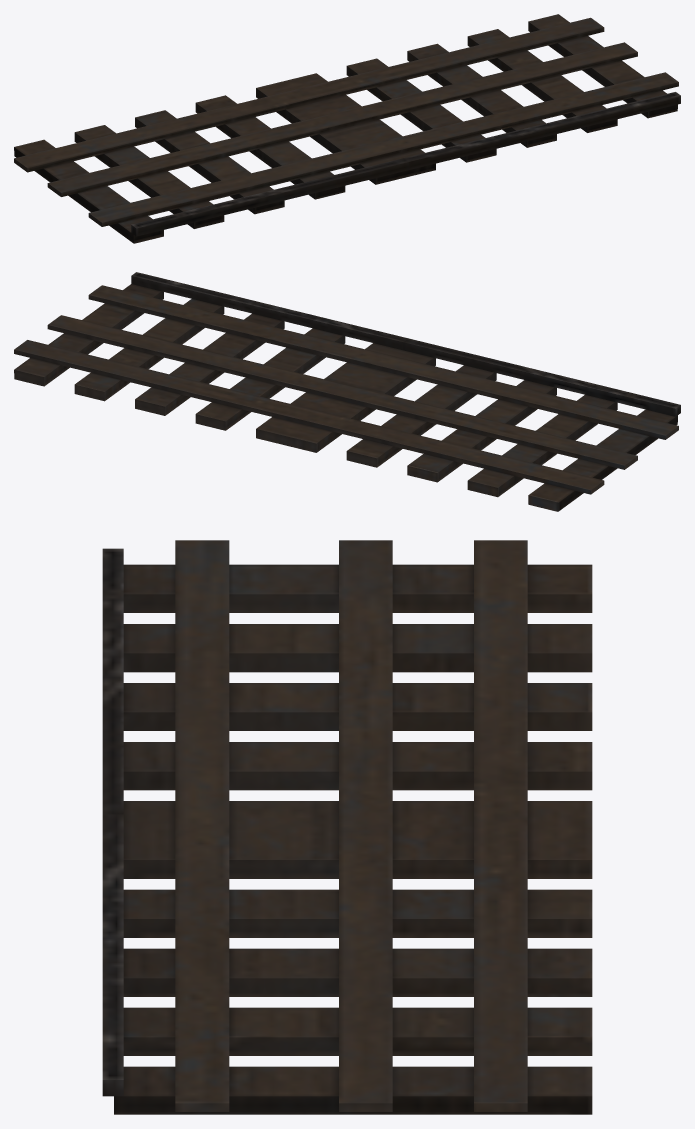
Rendered from FordF700PanelTruckRearDoor_WorldItem.fbx.
3 renders of one model, top to bottom at view 1: azimuth 30°, elevation 25°; view 2: azimuth 150°, elevation 25°; view 3: azimuth 270°, elevation 25°, orthographic. The views are drawn at different scales.
Visible parts, largest first — view 1: TrunkDoor_obj; view 2: TrunkDoor_obj; view 3: TrunkDoor_obj.
Part boxes in pixels (<box>): TrunkDoor_obj: <box>14,14,680,243</box>; TrunkDoor_obj: <box>14,272,680,511</box>; TrunkDoor_obj: <box>102,540,592,1114</box>.
Bounding box in the file's own units: 3.81 × 0.111 × 1.4.
